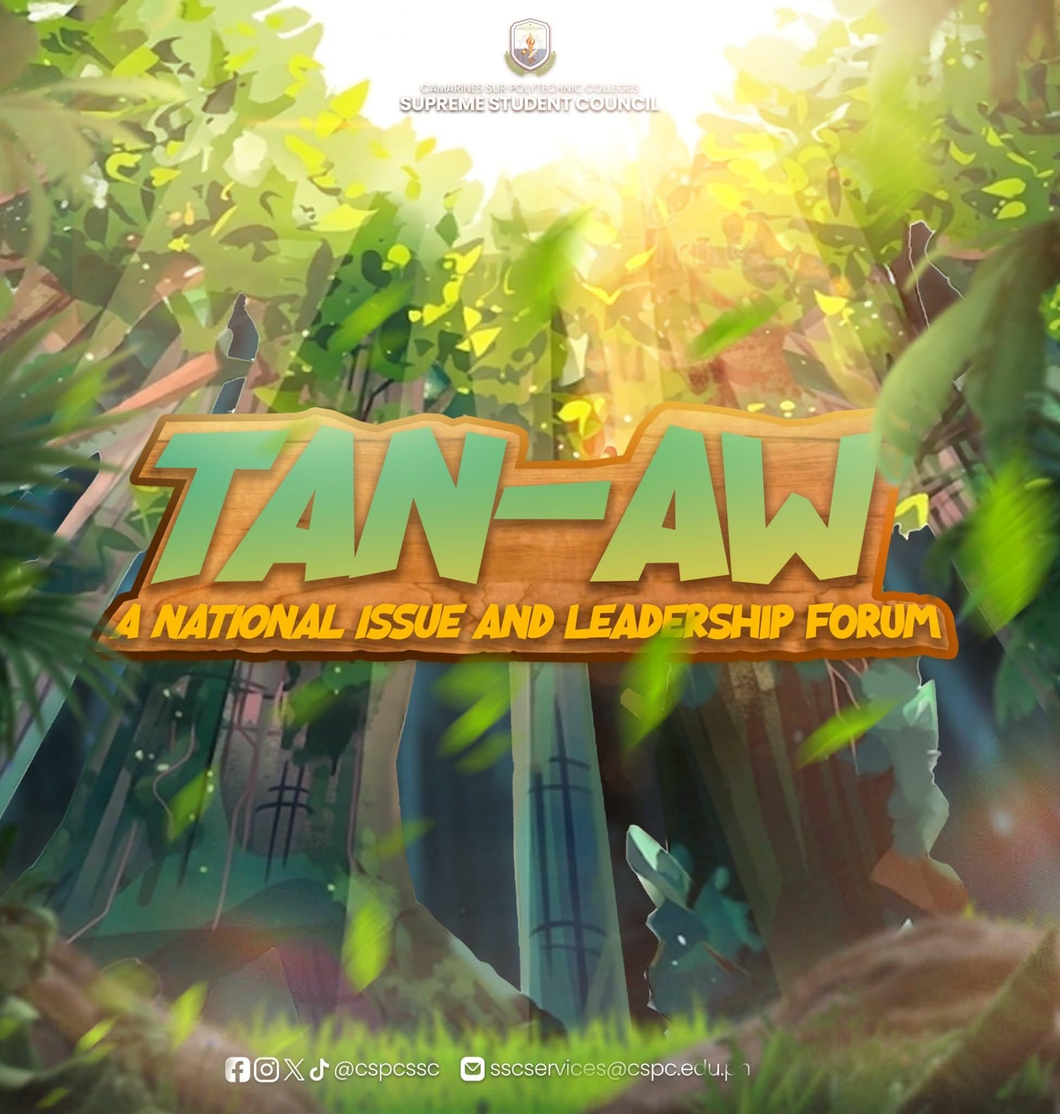embellishment: (220, 1051, 329, 1087), (457, 1053, 491, 1083)
logo: (496, 11, 564, 83)
text: (140, 422, 893, 593), (107, 599, 942, 645), (388, 78, 669, 122), (488, 1056, 754, 1082), (333, 1055, 444, 1082)
underlay: (100, 399, 965, 668)
